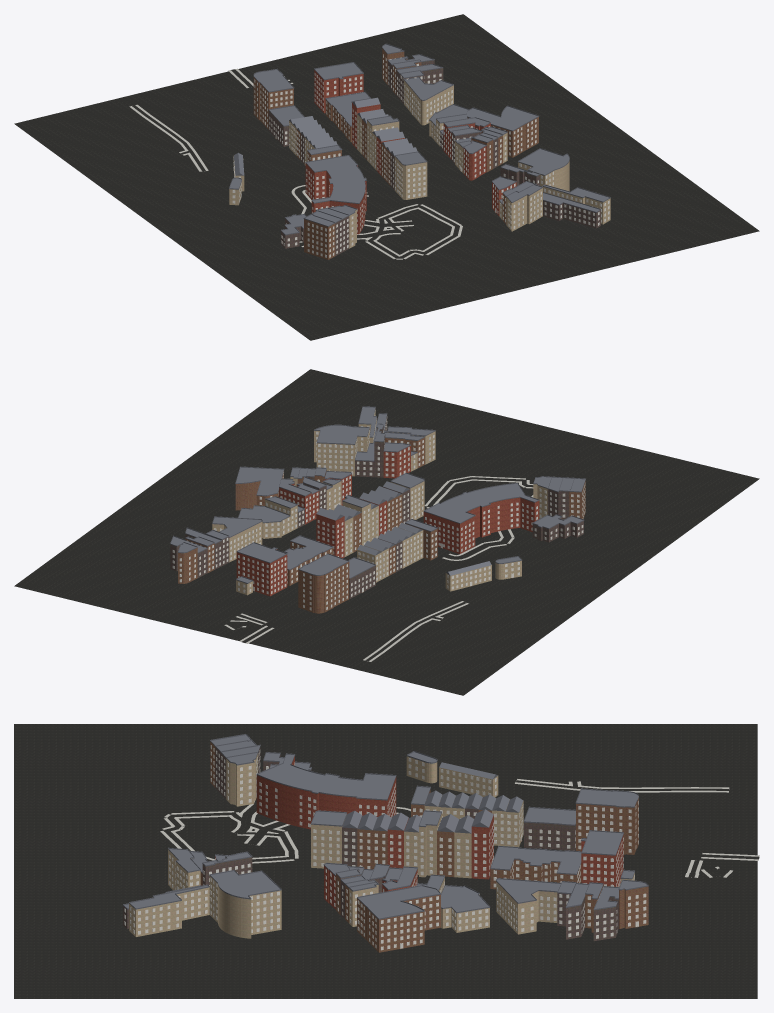
Rendered from osm-block.glb.
The picture shows the model from 3 angles, top to bottom: view 1: azimuth 30°, elevation 25°; view 2: azimuth 150°, elevation 25°; view 3: azimuth 270°, elevation 25°; orthographic projection. The views are drawn at different scales.
Parts seen in each view (by area): view 1: ground, roof_slate, window_frame, 57863800, 269085309, 269085026, 266561405, 266659936, Bureau Raampoort, 269085302, 266659962, 266561445 (+2 smaller); view 2: ground, roof_slate, window_frame, 57863800, Bureau Raampoort, 269085026, 266660002, 269085132, 266561445, 266561405, 269085023, 269084930 (+2 smaller); view 3: ground, roof_slate, window_frame, 57863800, 266660002, 266561445, 266660630, Bureau Raampoort, 266561405, 269085337, 269085026, 269085000 (+21 smaller).
Part boxes in pixels (left/top/right/bottom): ground: left=14, top=14, right=759, bottom=340; roof_slate: left=229, top=43, right=610, bottom=235; window_frame: left=232, top=54, right=609, bottom=257; 57863800: left=305, top=163, right=366, bottom=234; 269085309: left=394, top=156, right=427, bottom=199; 269085026: left=314, top=70, right=363, bottom=113; 266561405: left=404, top=80, right=453, bottom=125; 266659936: left=506, top=188, right=542, bottom=231; Bureau Raampoort: left=253, top=77, right=293, bottom=129; 269085302: left=304, top=219, right=335, bottom=259; 266659962: left=543, top=200, right=600, bottom=228; 266561445: left=467, top=117, right=538, bottom=157; ground: left=14, top=369, right=759, bottom=695; roof_slate: left=170, top=406, right=585, bottom=583; window_frame: left=172, top=410, right=585, bottom=610; 57863800: left=423, top=497, right=539, bottom=553; Bureau Raampoort: left=298, top=562, right=349, bottom=613; 269085026: left=236, top=549, right=287, bottom=596; 266660002: left=314, top=429, right=369, bottom=476; 269085132: left=316, top=514, right=344, bottom=558; 266561445: left=235, top=471, right=283, bottom=510; 266561405: left=212, top=522, right=262, bottom=562; 269085023: left=532, top=517, right=583, bottom=542; 269084930: left=445, top=565, right=491, bottom=591; ground: left=14, top=724, right=757, bottom=998; roof_slate: left=123, top=734, right=648, bottom=919; window_frame: left=124, top=745, right=646, bottom=950; 57863800: left=256, top=756, right=396, bottom=829; 266660002: left=209, top=876, right=281, bottom=938; 266561445: left=357, top=894, right=440, bottom=952; 266660630: left=129, top=887, right=209, bottom=936; Bureau Raampoort: left=576, top=798, right=638, bottom=854; 266561405: left=496, top=882, right=557, bottom=934; 269085337: left=524, top=822, right=575, bottom=850; 269085026: left=581, top=835, right=623, bottom=886; 269085000: left=226, top=754, right=257, bottom=806.
Bounding box in the file's own units: 269 × 25.84 × 308.
Materials: 11 (6 with a texture image).
